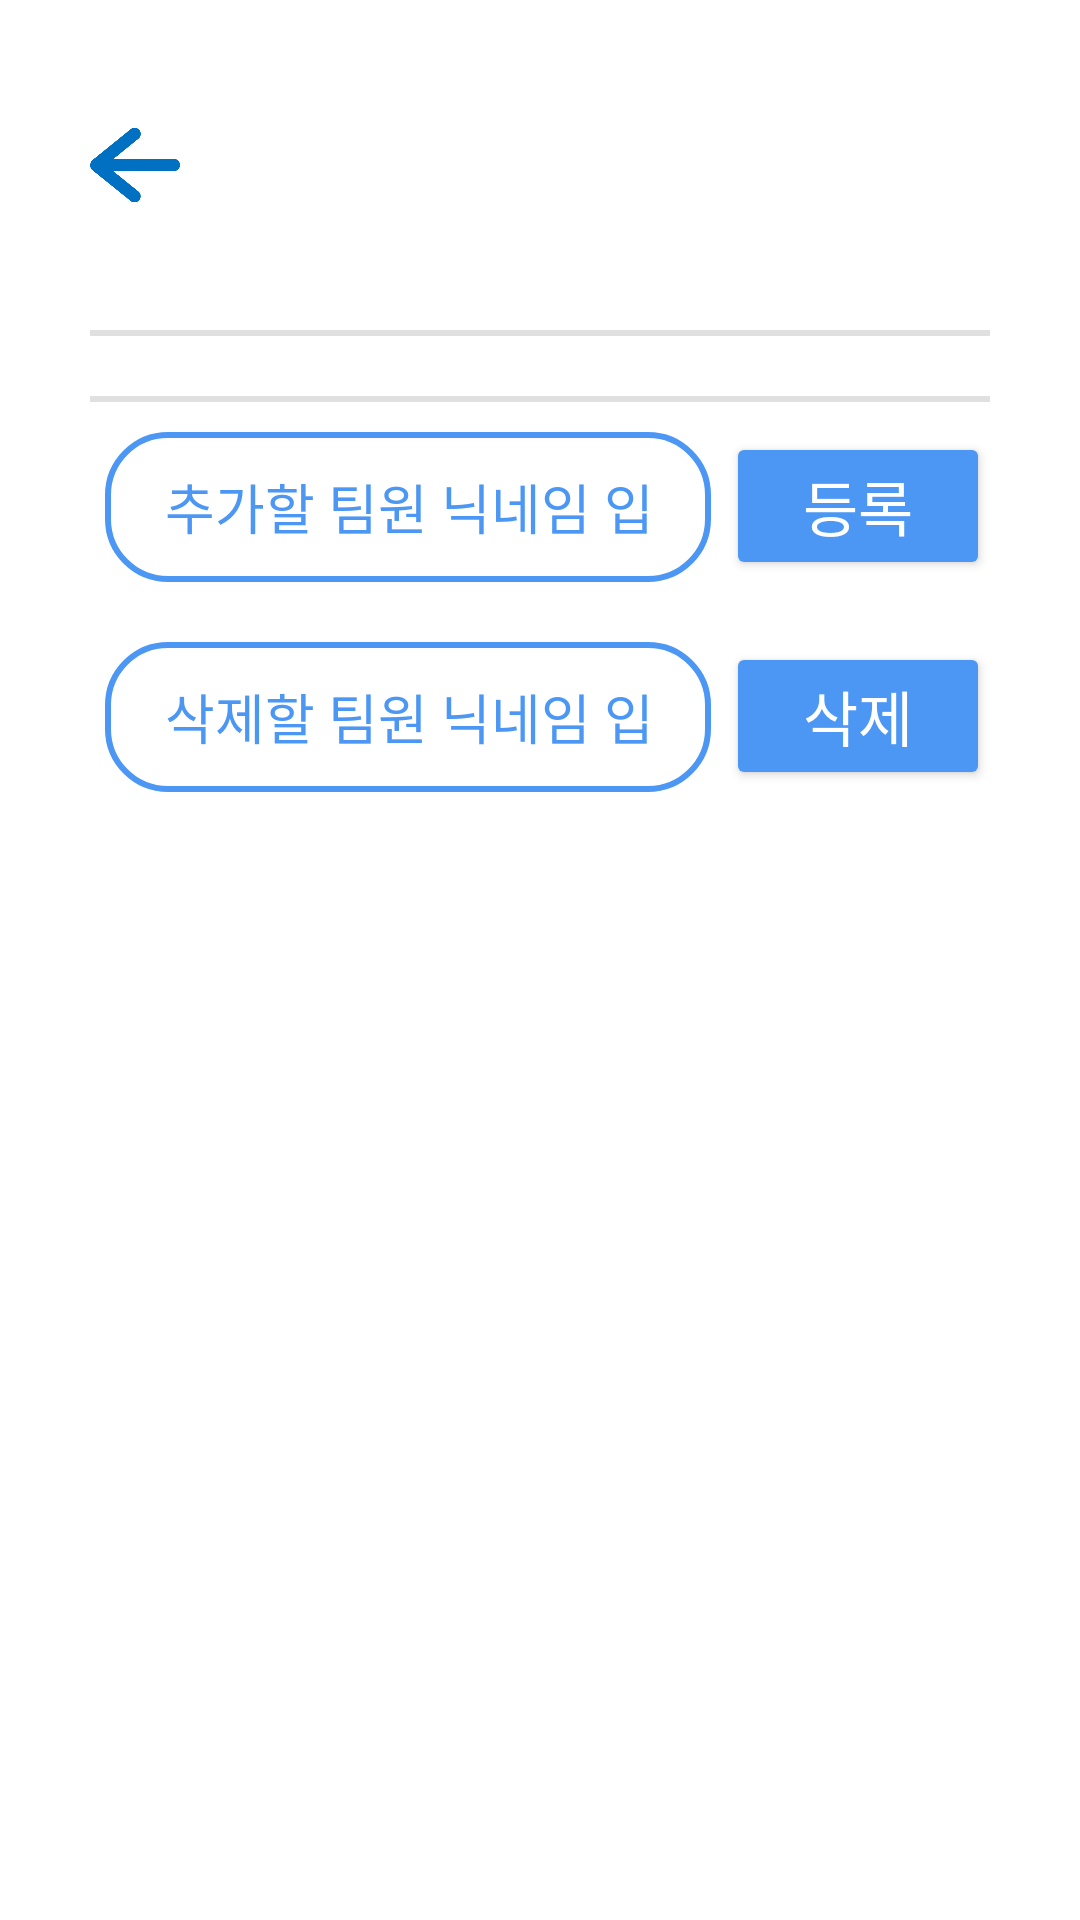

Icons on this 1080x1920 Android screen, each with its box as (x1,y1,x2,y2):
back: (90,128,180,202)
